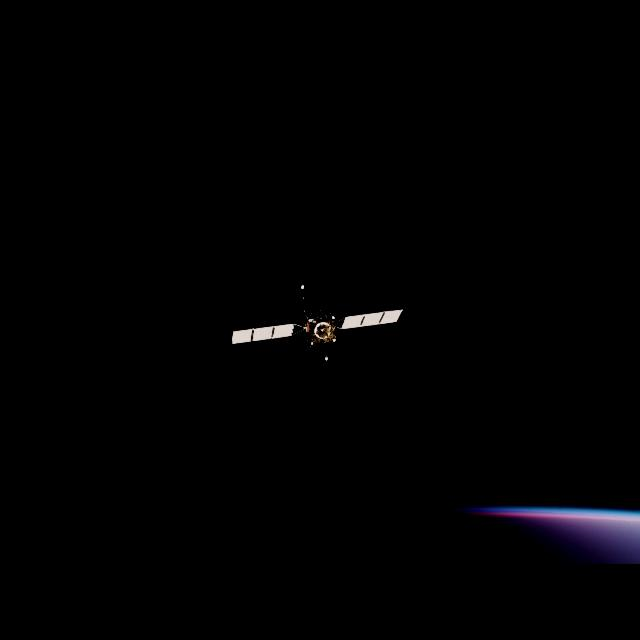satellite: (230, 310, 403, 353)
